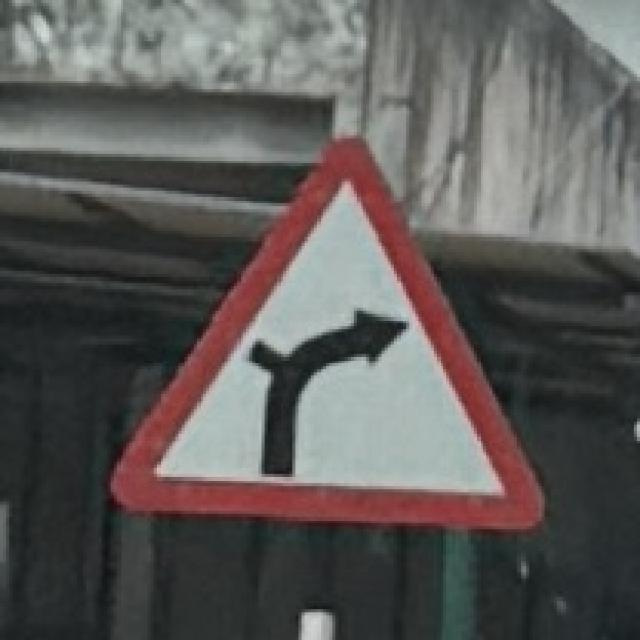RIGHT_TURN_AHEAD: (105, 131, 550, 534)
